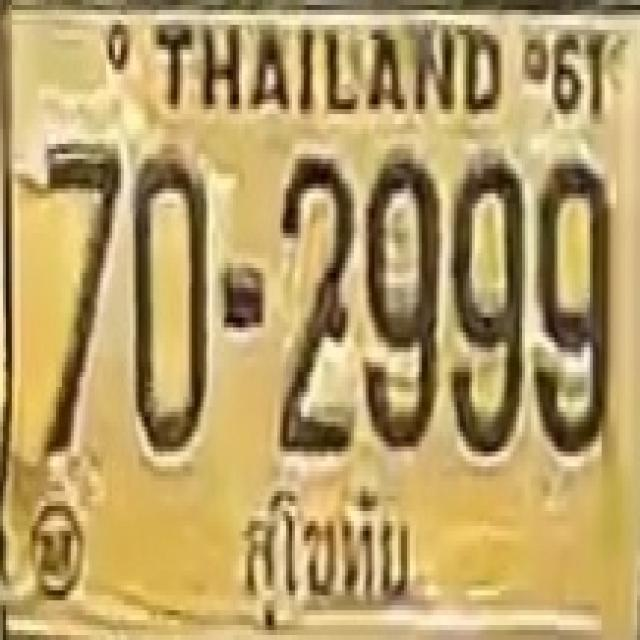STI: (218, 472, 436, 639)
